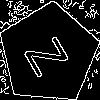Z: (23, 29, 78, 79)
